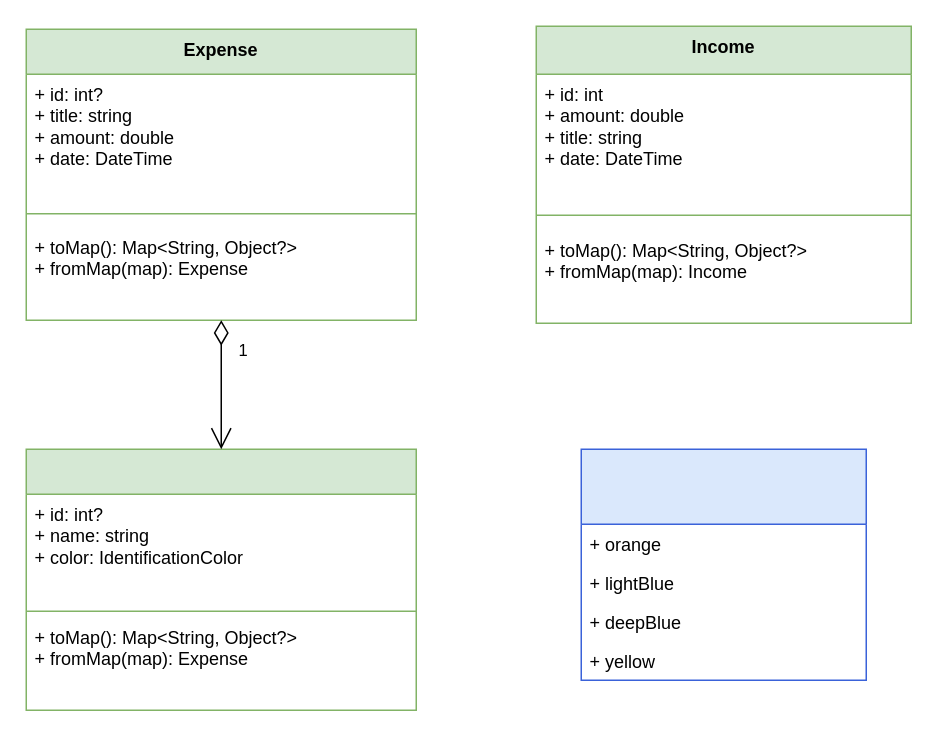
Some shapes in this 938 by 741 pixel diagram are drawn without their labels. Each missing label, with the box of its shape:
<<Enum>> IdentificationColor: (580, 448, 866, 680)
Category: (25, 448, 416, 710)
